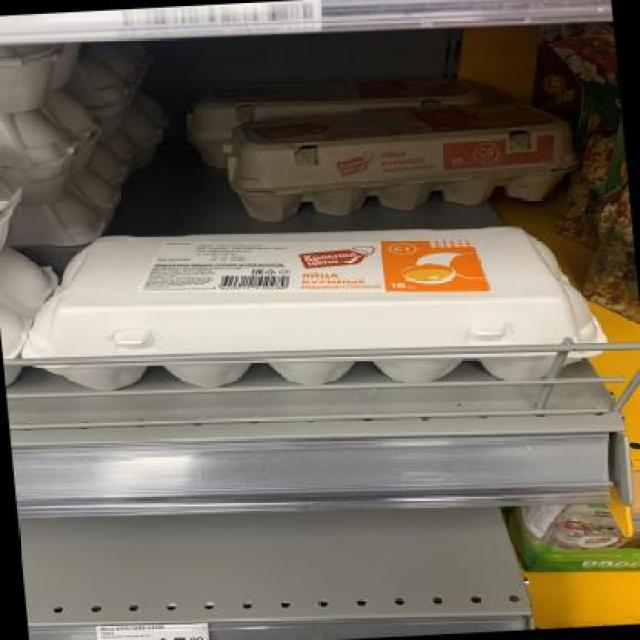Egg: (4, 209, 616, 408), (211, 99, 583, 224)
